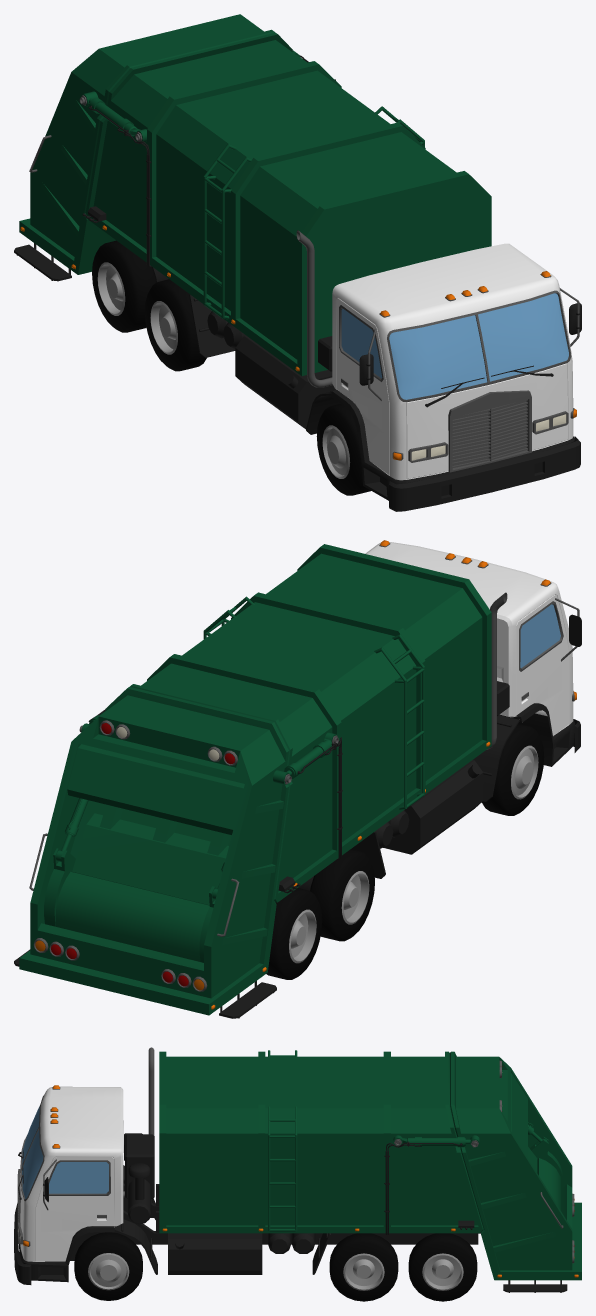
Rendered from CAR_Garbage.fbx.
3 renders of one model, top to bottom at view 1: azimuth 30°, elevation 25°; view 2: azimuth 150°, elevation 25°; view 3: azimuth 270°, elevation 25°, orthographic. The views are drawn at different scales.
Parts seen in each view (by area): view 1: CAR_Garbage, Car_Garbage_Wheel_R_R, Car_Garbage_Wheel_M_R, Car_Garbage_Wheel_F_R; view 2: CAR_Garbage, Car_Garbage_Wheel_M_R, Car_Garbage_Wheel_R_R, Car_Garbage_Wheel_F_R; view 3: CAR_Garbage, Car_Garbage_Wheel_M_L, Car_Garbage_Wheel_R_L, Car_Garbage_Wheel_F_L.
Part boxes in pixels (x1,y1,x2,y2): CAR_Garbage: (14, 14, 581, 511); Car_Garbage_Wheel_R_R: (92, 240, 156, 332); Car_Garbage_Wheel_M_R: (144, 279, 206, 371); Car_Garbage_Wheel_F_R: (316, 404, 370, 495); CAR_Garbage: (14, 540, 581, 1018); Car_Garbage_Wheel_M_R: (310, 849, 374, 941); Car_Garbage_Wheel_R_R: (266, 888, 322, 979); Car_Garbage_Wheel_F_R: (482, 723, 544, 815); CAR_Garbage: (14, 1047, 581, 1292); Car_Garbage_Wheel_M_L: (329, 1233, 398, 1301); Car_Garbage_Wheel_R_L: (408, 1233, 477, 1301); Car_Garbage_Wheel_F_L: (74, 1232, 142, 1300).
Size of the model in its own units: 58.83 by 63.62 by 172.
